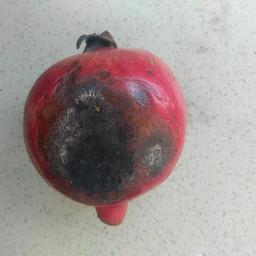Bad_pomegranate: (26, 20, 192, 229)
